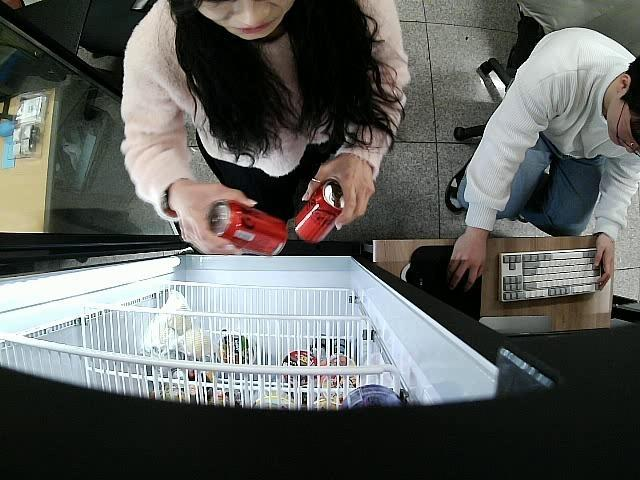11_cocaColaZero: (208, 195, 290, 255), (294, 180, 346, 244)
